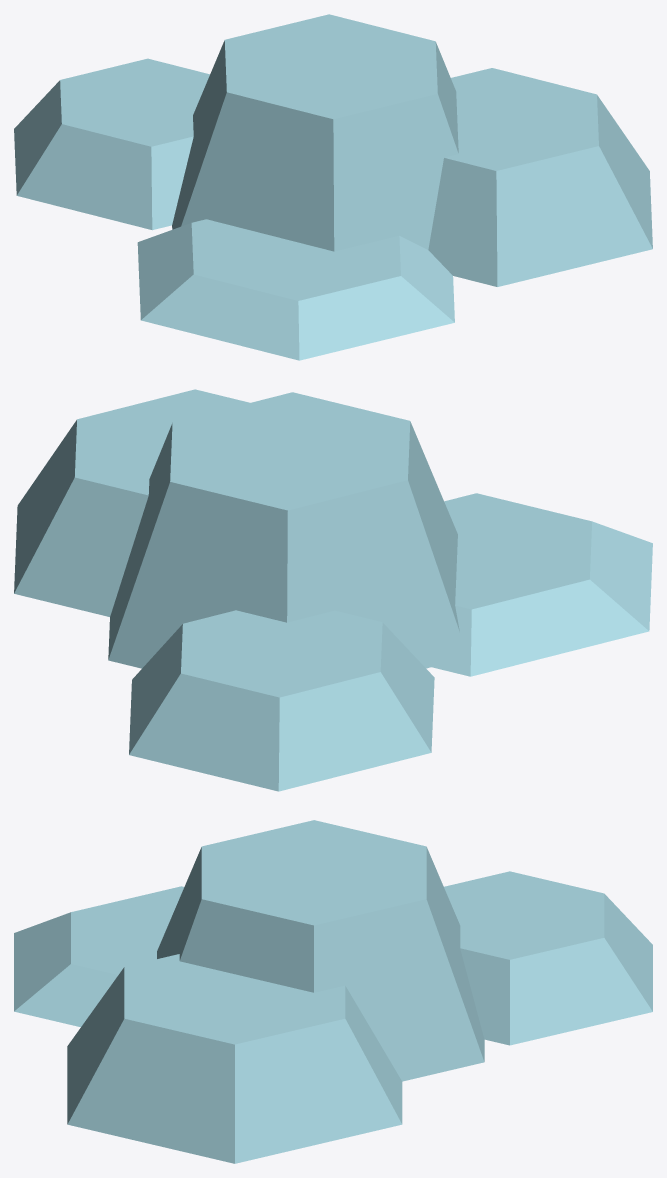
The model's file is detail_rocks.dae.
3 renders of one model, top to bottom at view 1: azimuth 30°, elevation 25°; view 2: azimuth 150°, elevation 25°; view 3: azimuth 270°, elevation 25°, orthographic. The views are drawn at different scales.
Visible parts, largest first — view 1: detail_rocks; view 2: detail_rocks; view 3: detail_rocks.
Part boxes in pixels (x1=…): detail_rocks: x1=14, y1=14, x2=652, y2=360; detail_rocks: x1=14, y1=389, x2=652, y2=791; detail_rocks: x1=14, y1=820, x2=652, y2=1163.
Bounding box in the file's own units: 0.6 × 0.155 × 0.6.
